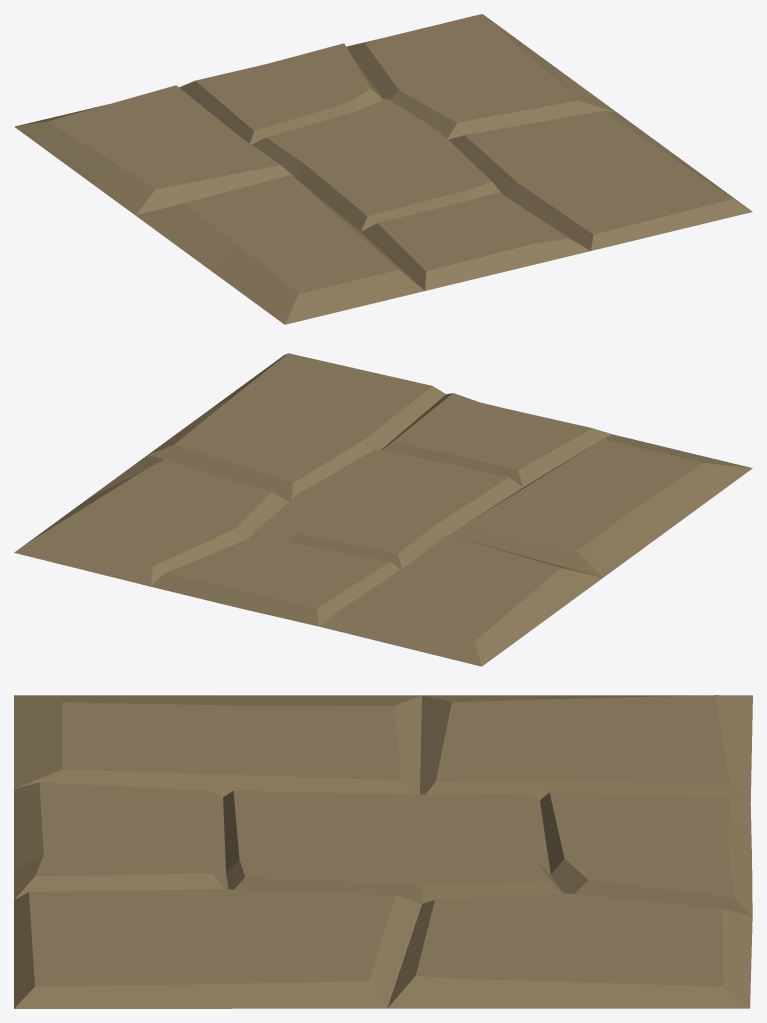
The model's file is Wall_Small_4_low.fbx.
The picture shows the model from 3 angles, top to bottom: view 1: azimuth 30°, elevation 25°; view 2: azimuth 150°, elevation 25°; view 3: azimuth 270°, elevation 25°; orthographic projection. The views are drawn at different scales.
Parts seen in each view (by area): view 1: Wall_Small_4_low; view 2: Wall_Small_4_low; view 3: Wall_Small_4_low.
Part boxes in pixels (x1,y1,x2,y2): Wall_Small_4_low: [14, 14, 752, 324]; Wall_Small_4_low: [14, 353, 752, 666]; Wall_Small_4_low: [14, 695, 752, 1008].
Bounding box in the file's own units: 1 × 0.0237 × 1.
